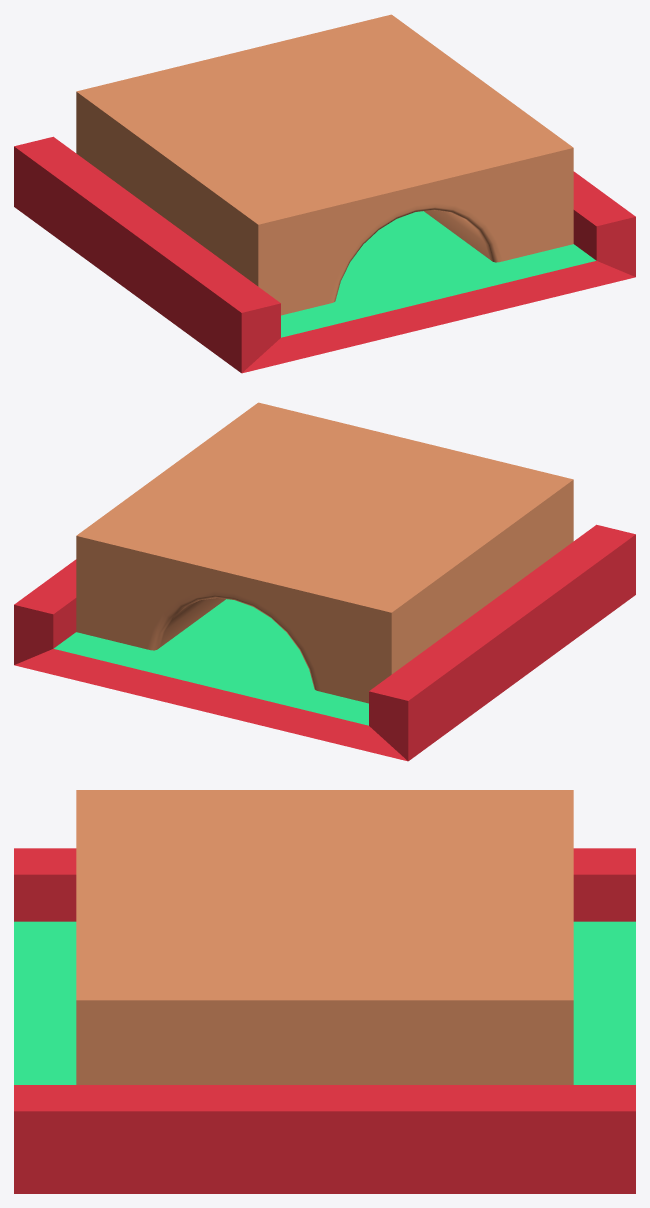
Rendered from tunnelWide.fbx.
The picture shows the model from 3 angles, top to bottom: view 1: azimuth 30°, elevation 25°; view 2: azimuth 150°, elevation 25°; view 3: azimuth 270°, elevation 25°; orthographic projection. The views are drawn at different scales.
Parts seen in each view (by area): view 1: tunnelWide; view 2: tunnelWide; view 3: tunnelWide.
Boxes of the visible parts, <box> form: tunnelWide: <box>14,14,635,373</box>; tunnelWide: <box>14,402,635,761</box>; tunnelWide: <box>14,790,635,1193</box>.
Size of the model in its own units: 99.99 by 99.99 by 29.66.
